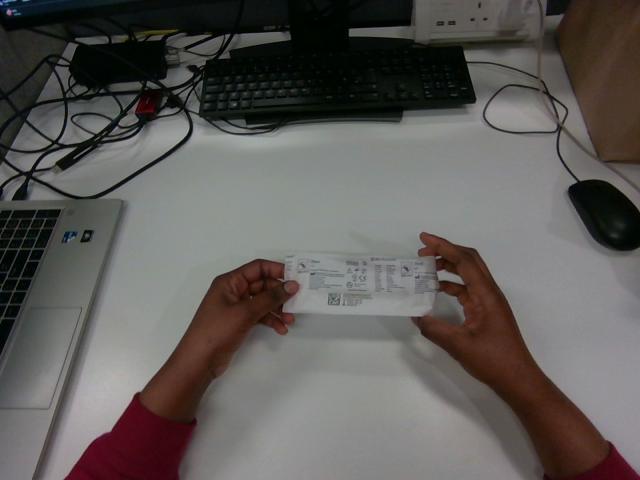syringe: (283, 253, 438, 315)
